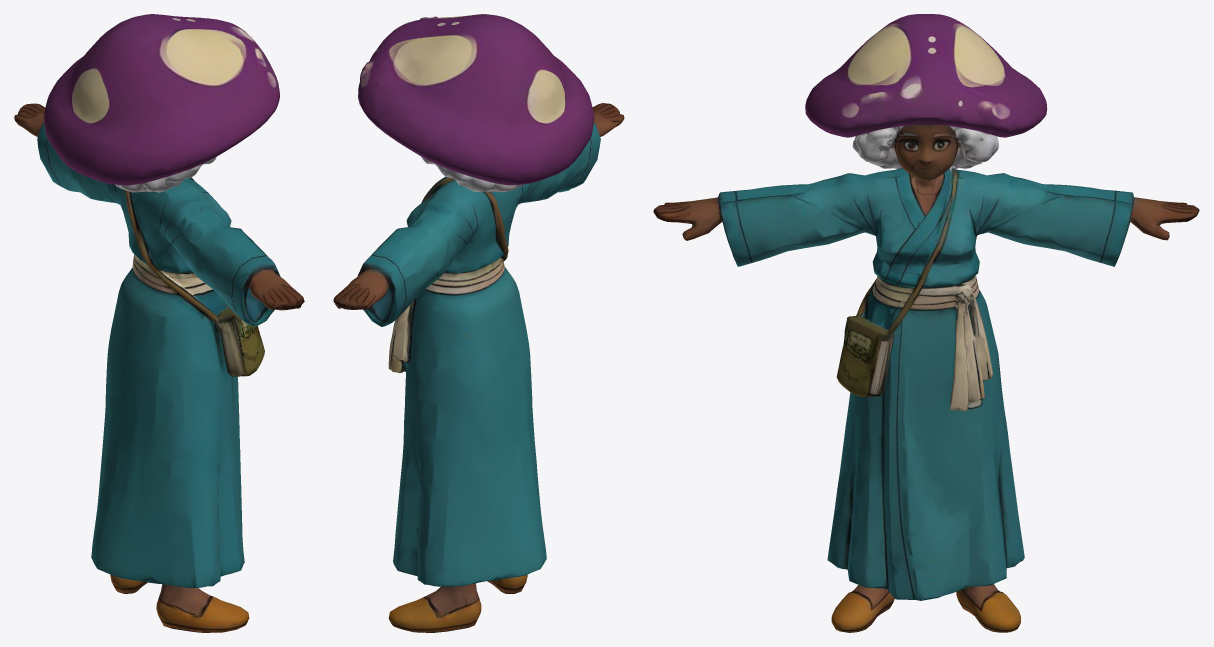
The model's file is n2_teacher.d730694a.glb.
The picture shows the model from 3 angles, left to right: view 1: azimuth 30°, elevation 25°; view 2: azimuth 150°, elevation 25°; view 3: azimuth 270°, elevation 25°; orthographic projection.
Visible parts, largest first — view 1: tripo_node_5eddc2fa-76db-41b8-b6d9-c7cc451a9225; view 2: tripo_node_5eddc2fa-76db-41b8-b6d9-c7cc451a9225; view 3: tripo_node_5eddc2fa-76db-41b8-b6d9-c7cc451a9225.
Part boxes in pixels (x1,y1,x2,y2): tripo_node_5eddc2fa-76db-41b8-b6d9-c7cc451a9225: [14, 14, 304, 632]; tripo_node_5eddc2fa-76db-41b8-b6d9-c7cc451a9225: [333, 14, 624, 632]; tripo_node_5eddc2fa-76db-41b8-b6d9-c7cc451a9225: [653, 14, 1199, 632].
Size of the model in its own units: 0.3349 by 1 by 0.8433.
Materials: 1 (1 with a texture image).
